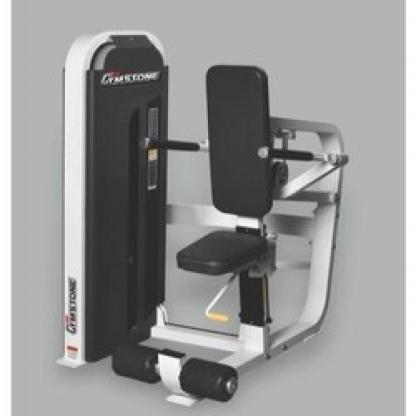seated dip machine: (56, 30, 351, 409)
